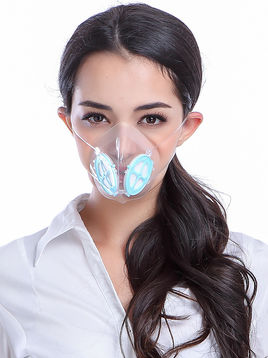face_mask: (72, 52, 179, 207)
